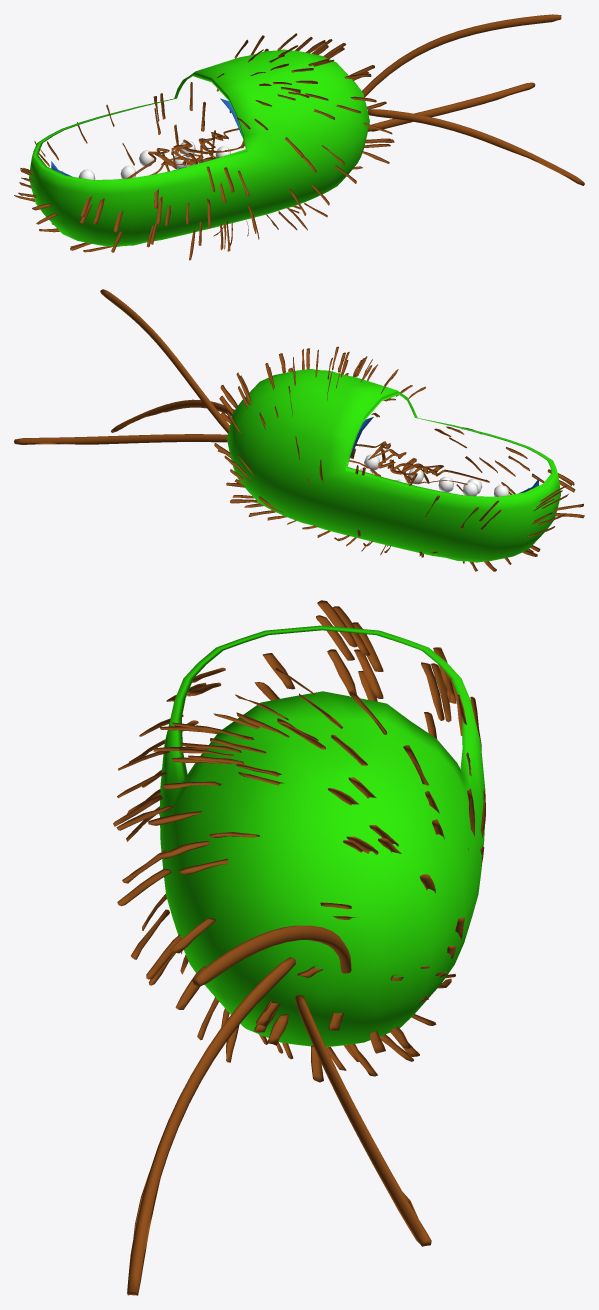
3 views of the same model, one above another, from view 1: azimuth 30°, elevation 25°; view 2: azimuth 150°, elevation 25°; view 3: azimuth 270°, elevation 25° (orthographic). The views are drawn at different scales.
Visible parts, largest first — view 1: cell, Mesh, Mesh.001, Lines, Sphere; view 2: cell, Mesh, Mesh.001, Lines, Sphere; view 3: cell, Mesh, Mesh.001.
Part boxes in pixels (<box>): cell: <box>29,49,369,246</box>; Mesh: <box>14,33,394,260</box>; Mesh.001: <box>362,14,584,185</box>; Lines: <box>126,128,244,178</box>; Sphere: <box>78,140,230,179</box>; cell: <box>227,369,560,562</box>; Mesh: <box>214,346,584,571</box>; Mesh.001: <box>14,289,234,444</box>; Lines: <box>349,441,489,484</box>; Sphere: <box>360,454,508,496</box>; cell: <box>160,625,485,1047</box>; Mesh: <box>113,600,485,1082</box>; Mesh.001: <box>127,925,431,1295</box>.
Size of the model in its own units: 15.62 by 4.96 by 4.75.
